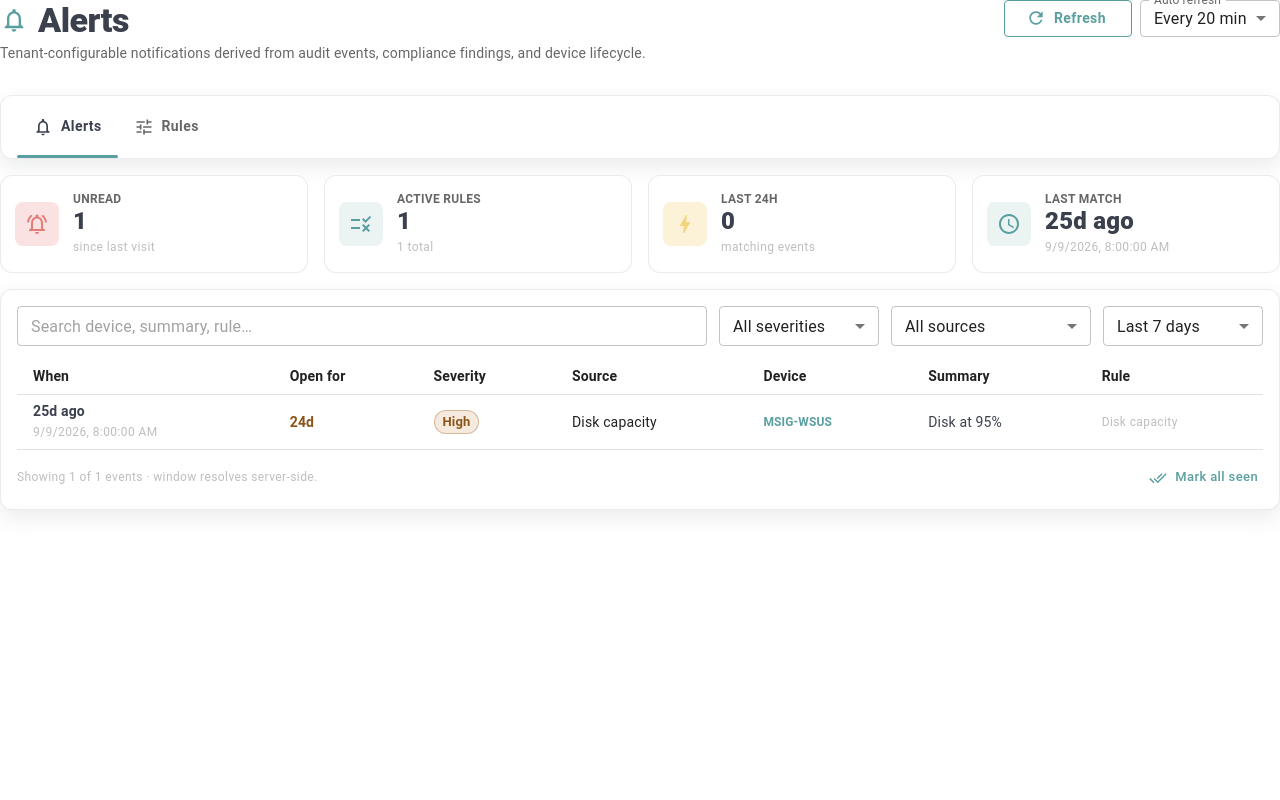
Test case: Alerts — de la alerta al equipo › ⭐ la ficha ofrece abrir el equipo en Asset Management, con su agentId
The image size is (1280, 800).
What coordinates should you click on to do the following:
click the text "Disk at 95%"
I would click on:
 (640, 422)
Its box is [17,395,1263,450].
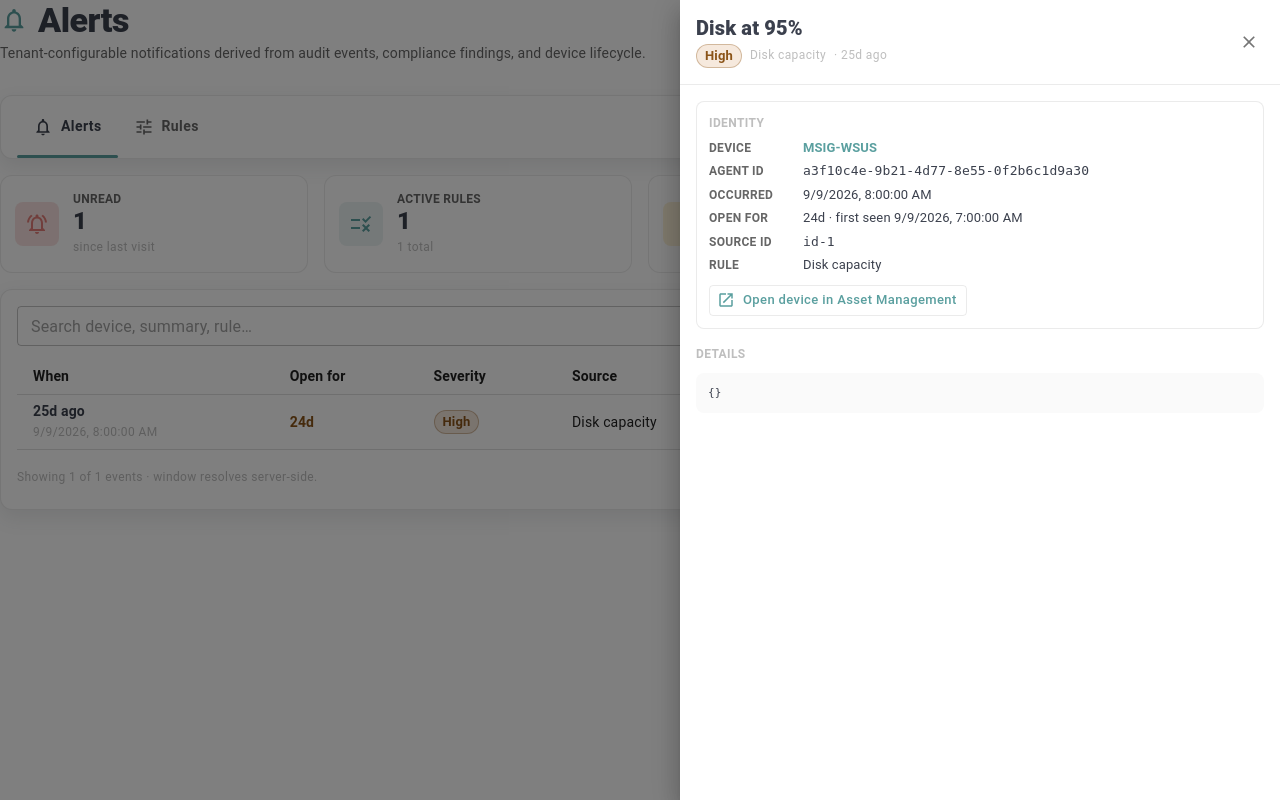
Expected: the text "a3f10c4e-9b21-4d77-8e55-0f2b6c1d9a30" is shown, [803,163,1089,178]
